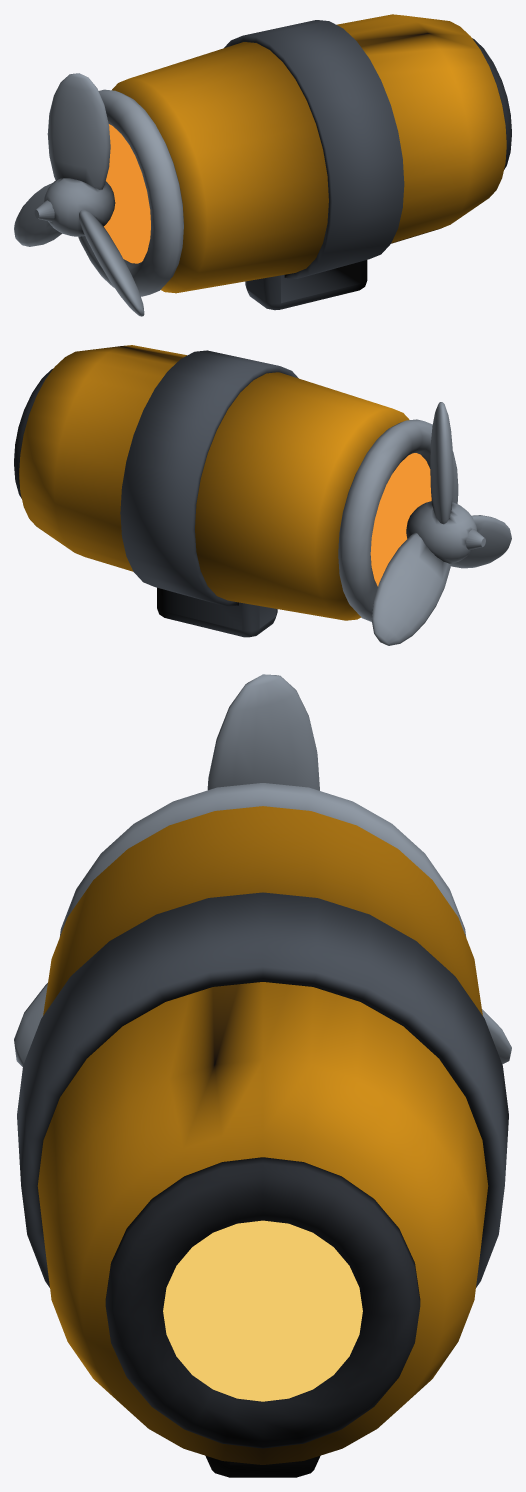
The model's file is part_thruster.glb.
3 renders of one model, top to bottom at view 1: azimuth 30°, elevation 25°; view 2: azimuth 150°, elevation 25°; view 3: azimuth 270°, elevation 25°, orthographic. The views are drawn at different scales.
Visible parts, largest first — view 1: thruster_body, thruster_prop; view 2: thruster_body, thruster_prop; view 3: thruster_body, thruster_prop.
Part boxes in pixels (bbox=[...]): thruster_body: bbox=[78, 14, 511, 310]; thruster_prop: bbox=[14, 73, 144, 316]; thruster_body: bbox=[14, 345, 458, 637]; thruster_prop: bbox=[371, 402, 511, 645]; thruster_body: bbox=[17, 783, 508, 1477]; thruster_prop: bbox=[14, 674, 511, 1066].
Bounding box in the file's own units: 1.2 × 0.721 × 0.597.
